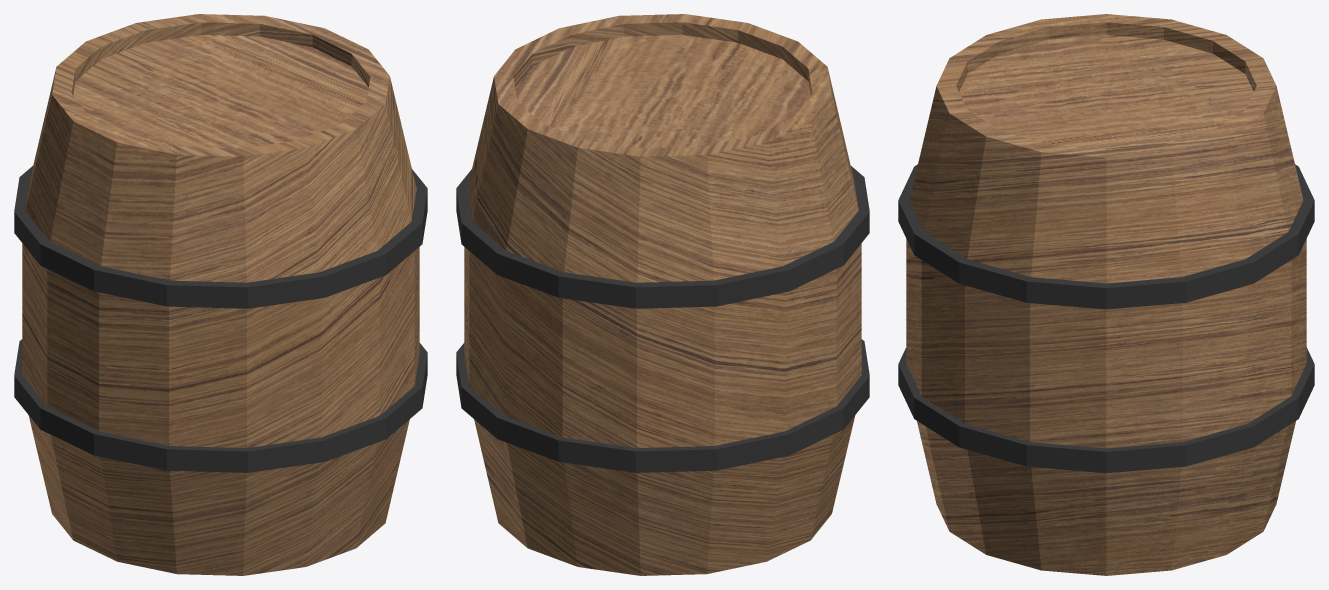
File: Varil.fbx
3 renders of one model, left to right at view 1: azimuth 30°, elevation 25°; view 2: azimuth 150°, elevation 25°; view 3: azimuth 270°, elevation 25°, orthographic.
Visible parts, largest first — view 1: Varil; view 2: Varil; view 3: Varil.
Part boxes in pixels (bbox=[...]): Varil: bbox=[14, 14, 427, 575]; Varil: bbox=[456, 14, 869, 575]; Varil: bbox=[898, 14, 1314, 575].
Size of the model in its own units: 245 by 271 by 245.
2 materials, 1 textured.
